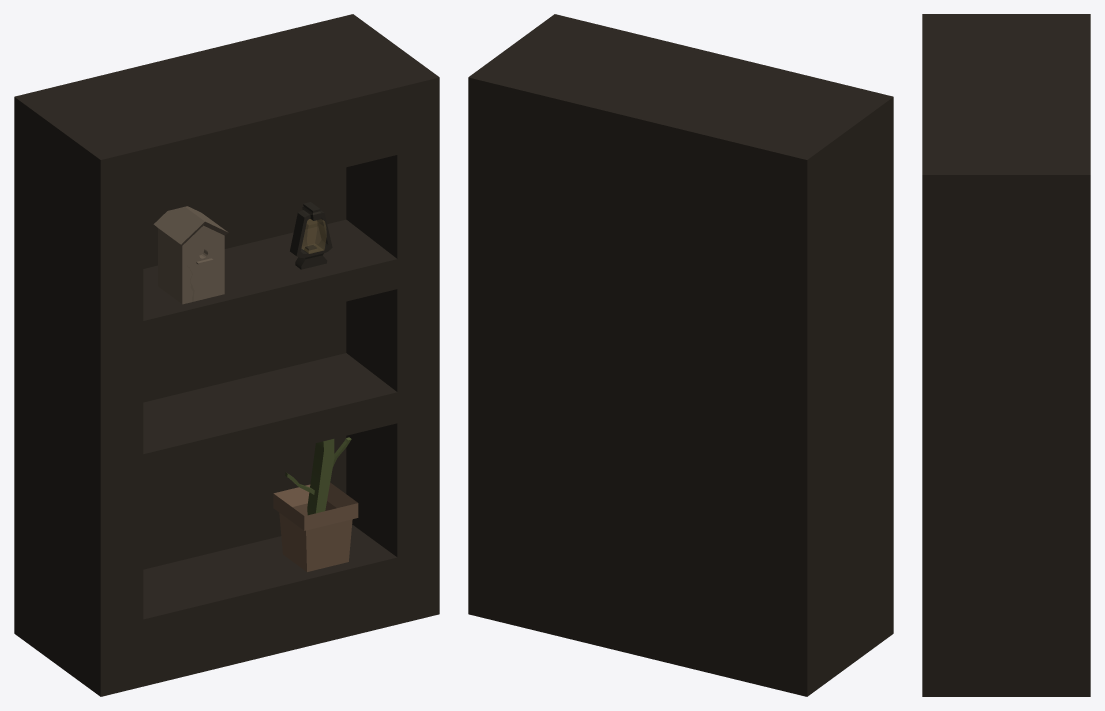
The model's file is shelf 1.fbx.
The picture shows the model from 3 angles, left to right: view 1: azimuth 30°, elevation 25°; view 2: azimuth 150°, elevation 25°; view 3: azimuth 270°, elevation 25°; orthographic projection. The views are drawn at different scales.
Visible parts, largest first — view 1: shelf, birdhouse, pot, oillamp, pCube26, pCube31; view 2: shelf; view 3: shelf.
Boxes of the visible parts, box(x1,y1,x2,y2) form: shelf: box(14, 14, 439, 696); birdhouse: box(153, 206, 228, 304); pot: box(273, 482, 358, 571); oillamp: box(290, 202, 332, 269); pCube26: box(307, 439, 334, 515); pCube31: box(302, 219, 326, 253); shelf: box(468, 14, 893, 696); shelf: box(922, 14, 1090, 696).
Size of the model in its own units: 240 by 363 by 106.
